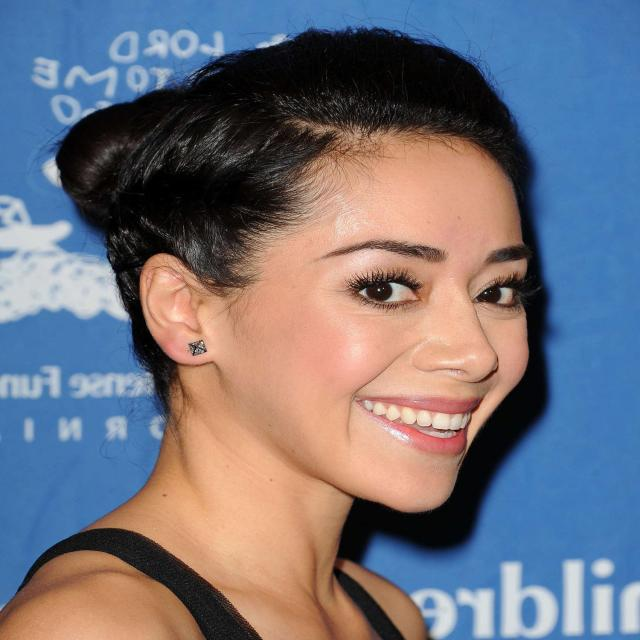no-earmuff: (126, 242, 237, 383)
